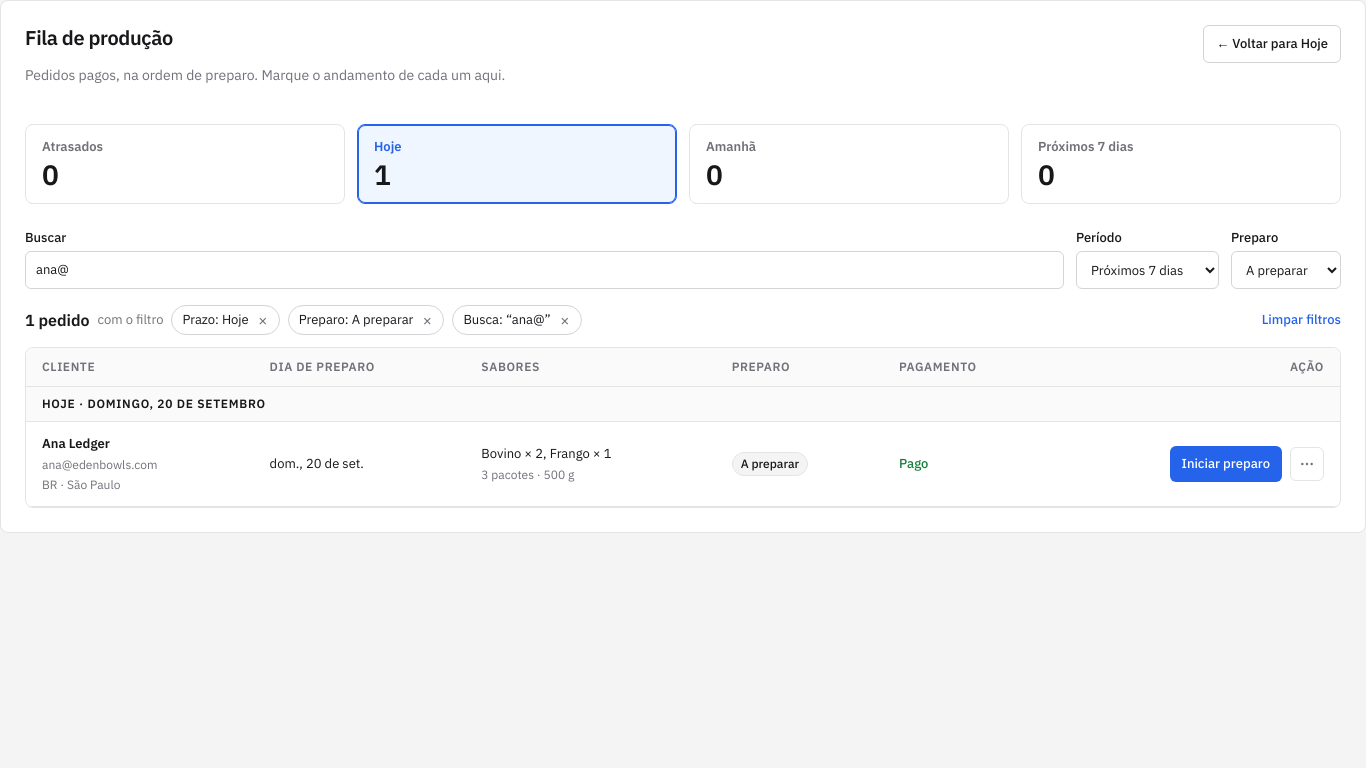
Test case: ProductionQueuePage › opens filtered from the URL and sends the filters to the API
Expected: the text "ana@edenbowls.com" is shown, [42, 456, 158, 474]
Expected: the dropdown labelled "Preparo" shows "A preparar", [1231, 251, 1341, 289]
Click the button named "Remover filtro Prazo: Hoje": (263, 320) [251, 308, 275, 332]
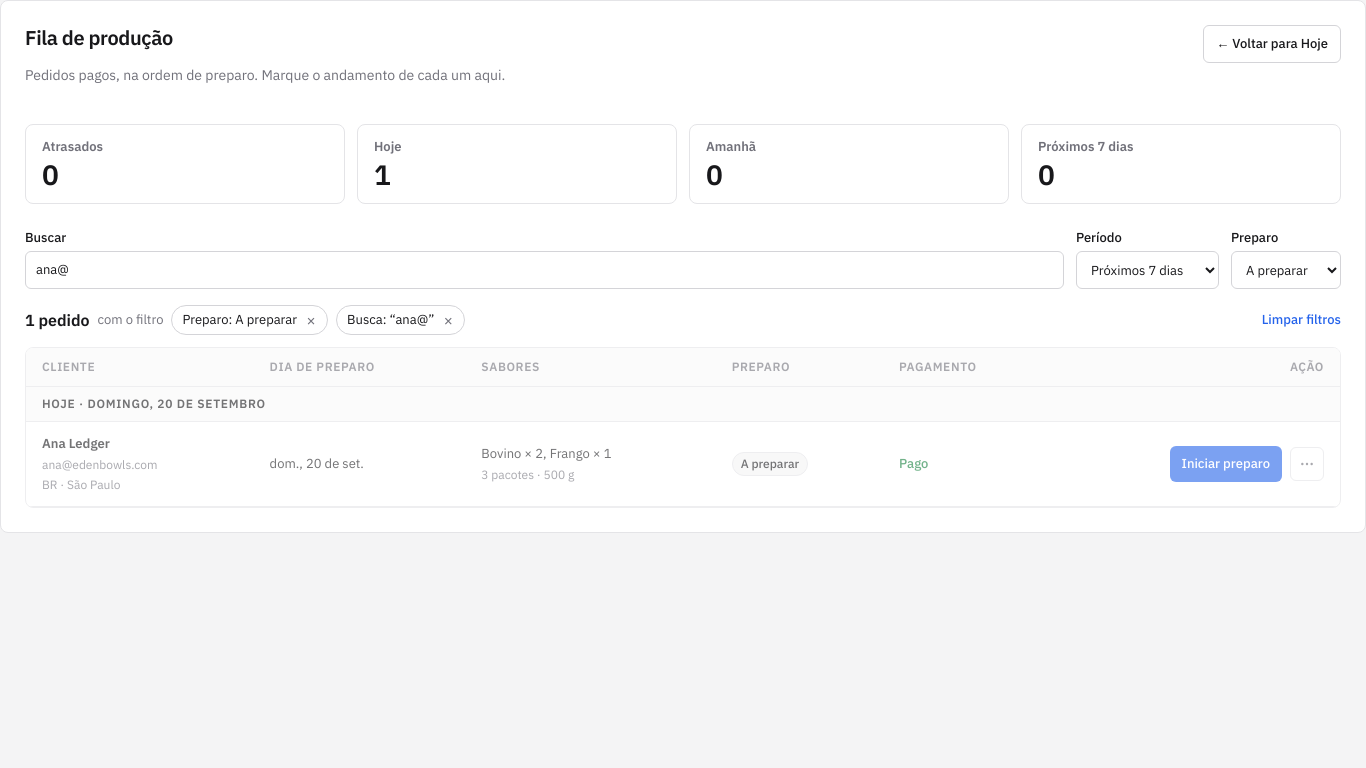
Result: the button "Hoje 1" is not pressed at [357, 124, 677, 204]
Click the button "Limpar filtros": (1301, 320) [1262, 310, 1341, 330]
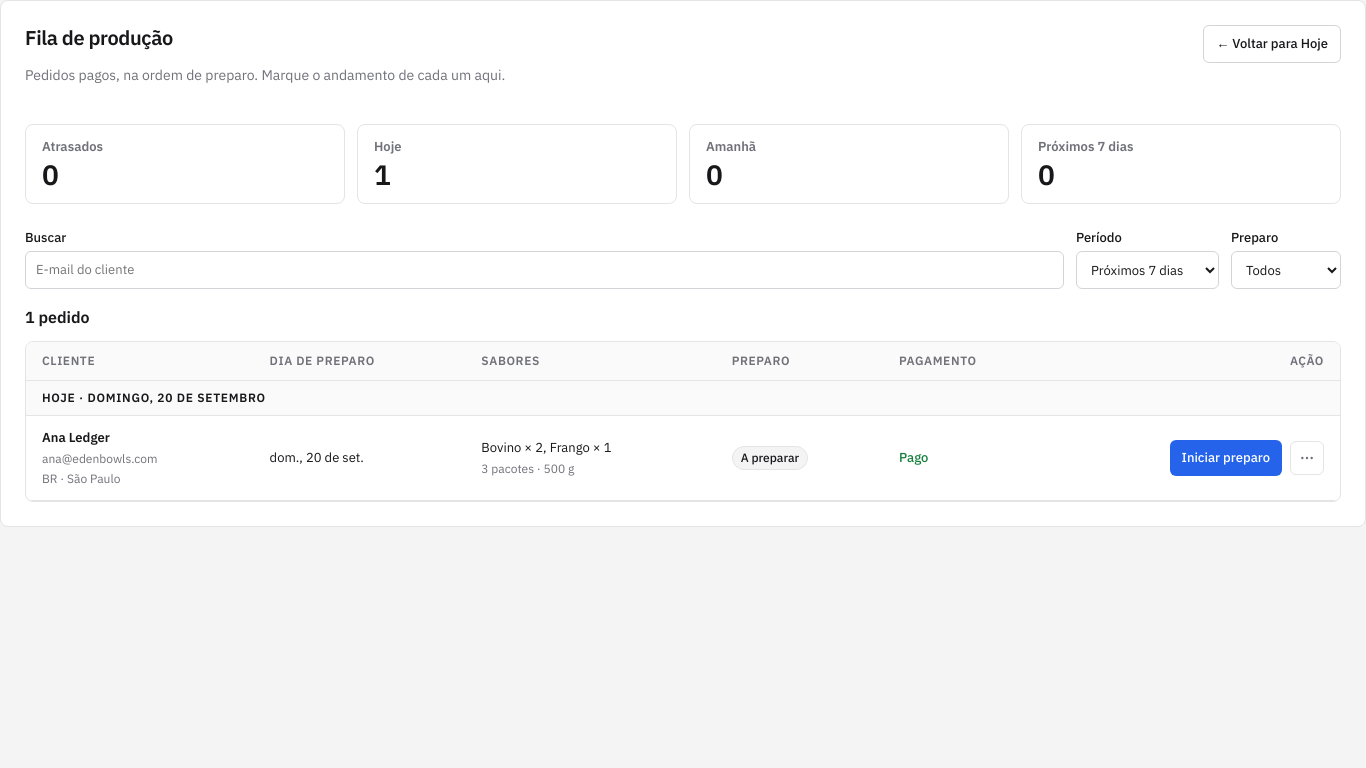
Result: the dropdown labelled "Preparo" shows "Todos" at [1231, 251, 1341, 289]
Result: the search field labelled "Buscar" is empty at [25, 251, 1064, 289]
